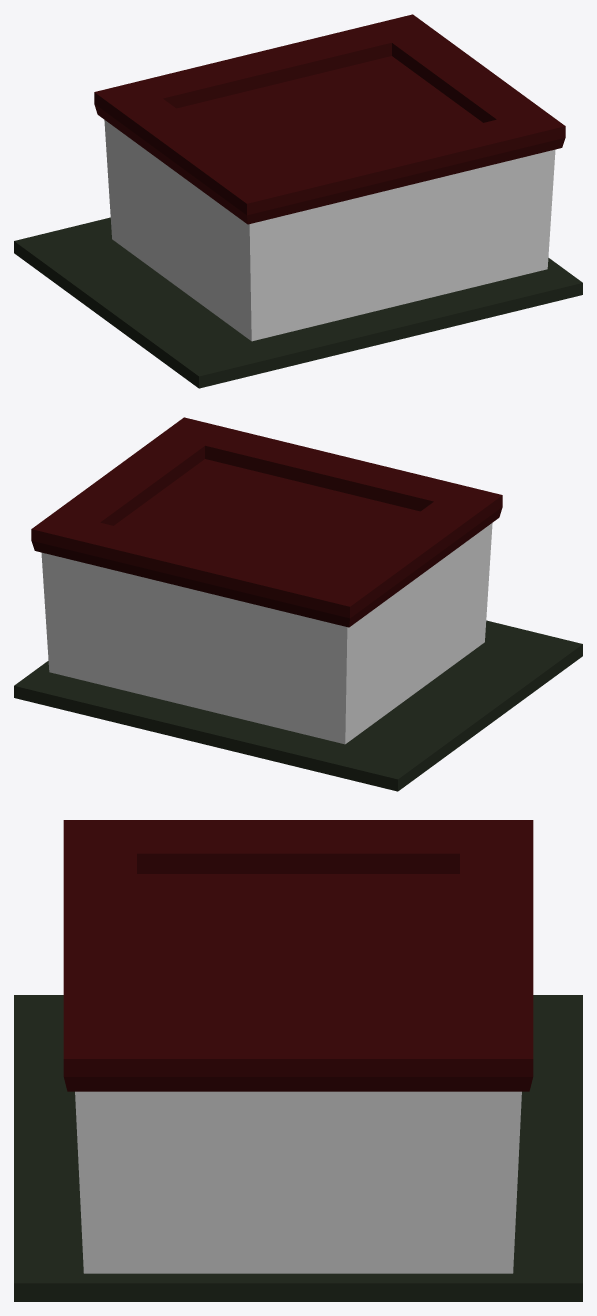
Rendered from Gelateria_x1.FBX.
3 views of the same model, one above another, from view 1: azimuth 30°, elevation 25°; view 2: azimuth 150°, elevation 25°; view 3: azimuth 270°, elevation 25° (orthographic). The views are drawn at different scales.
Parts seen in each view (by area): view 1: Gelateria_x1; view 2: Gelateria_x1; view 3: Gelateria_x1.
Part boxes in pixels (x1,y1,x2,y2): Gelateria_x1: (14,14,582,388); Gelateria_x1: (14,417,582,791); Gelateria_x1: (14,820,582,1301).
Size of the model in its own units: 590 by 231 by 492.
